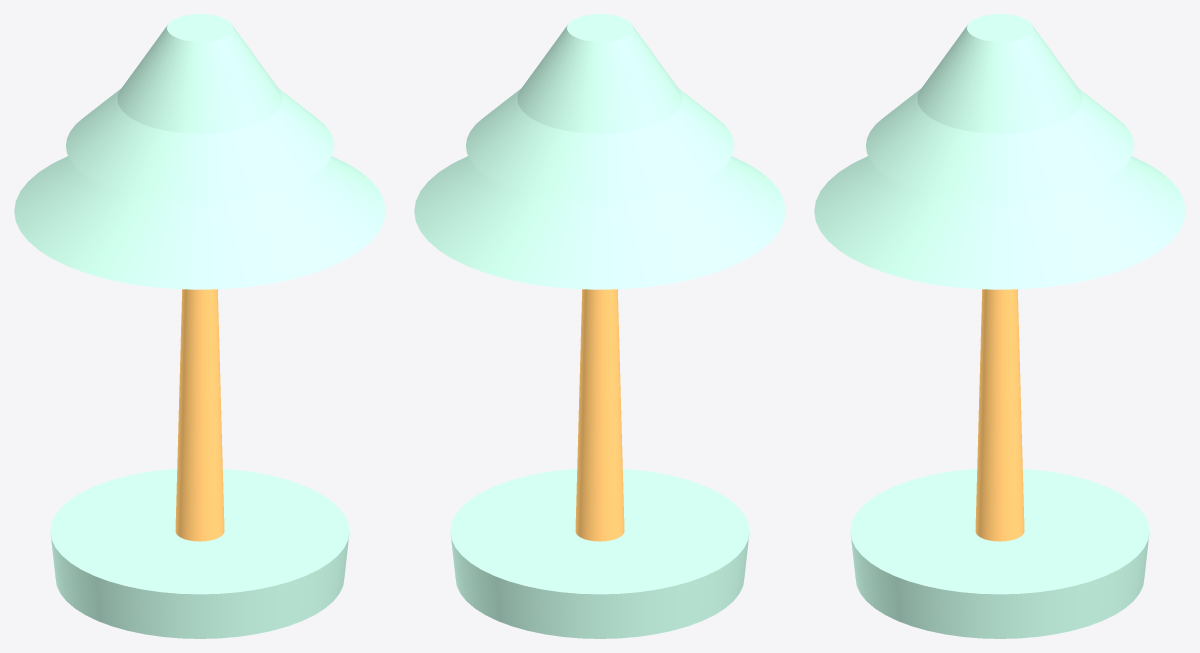
Rendered from mint_beacon.glb.
The picture shows the model from 3 angles, left to right: view 1: azimuth 30°, elevation 25°; view 2: azimuth 150°, elevation 25°; view 3: azimuth 270°, elevation 25°; orthographic projection.
Visible parts, largest first — view 1: mint_beacon; view 2: mint_beacon; view 3: mint_beacon.
Boxes of the visible parts, x1=… form: mint_beacon: x1=14, y1=14, x2=385, y2=638; mint_beacon: x1=414, y1=14, x2=785, y2=638; mint_beacon: x1=814, y1=14, x2=1185, y2=638.
Size of the model in its own units: 0.36 by 0.588 by 0.36.
